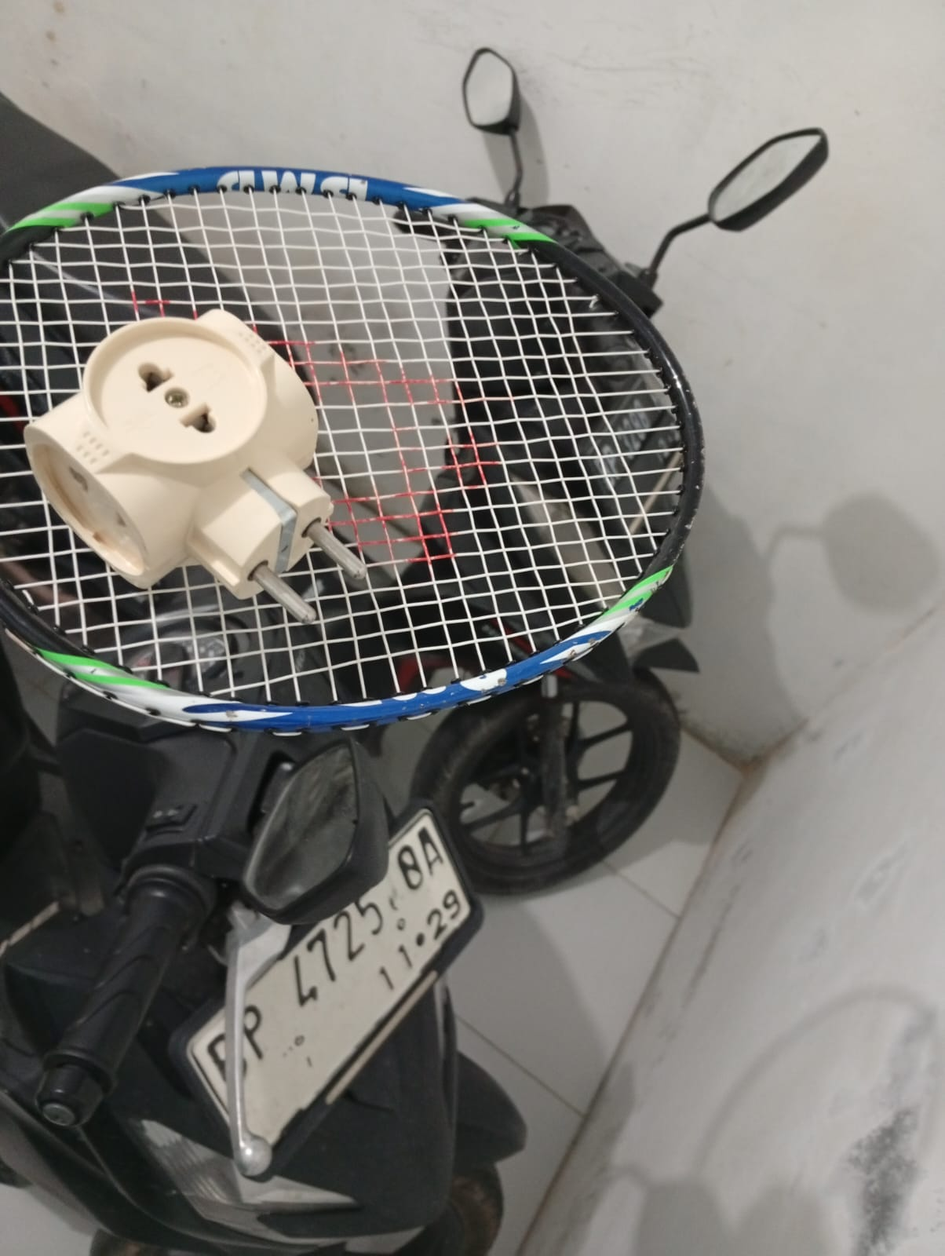Colokan: (13, 296, 381, 627)
